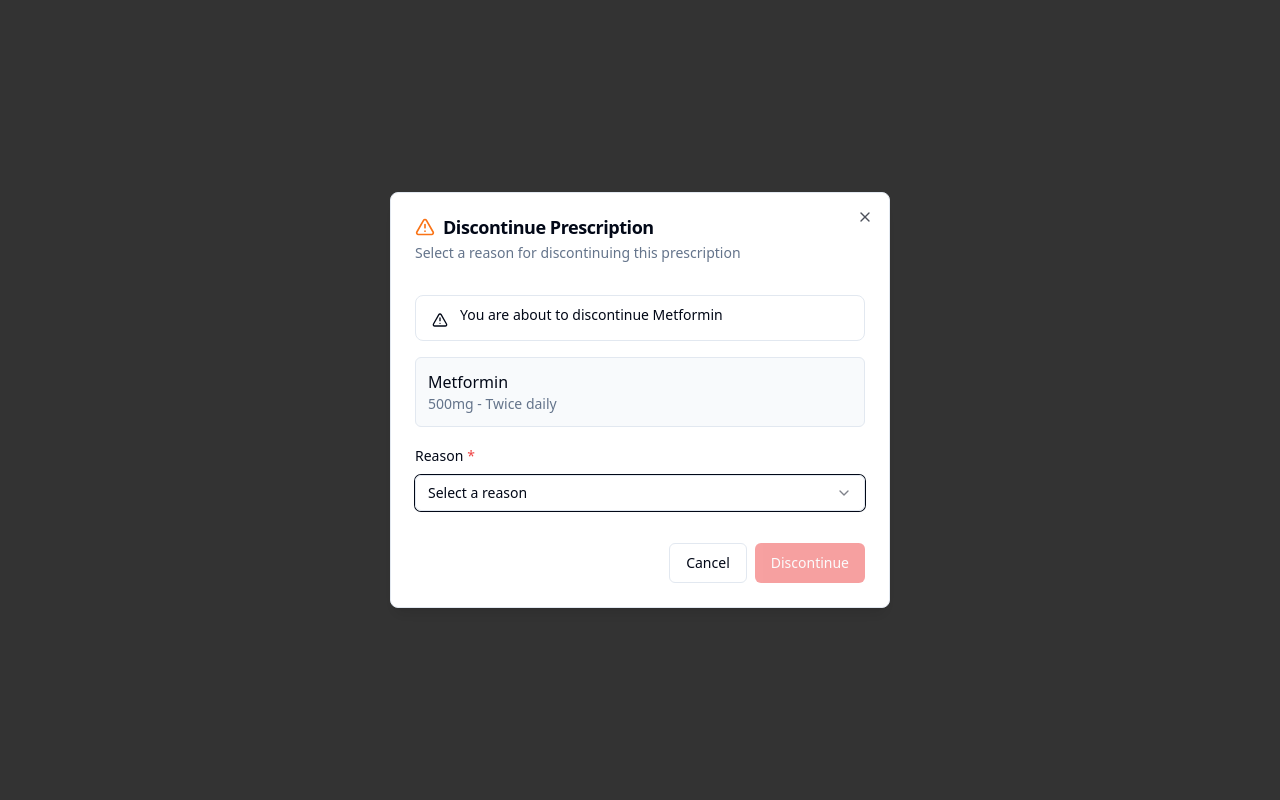
Scenario: DiscontinueDialog › Reason Selection › shows custom reason input when "Other" is selected
The width and height of the screenshot is (1280, 800).
Step 1. Click the dropdown → (478, 492), box [415,475,865,511]
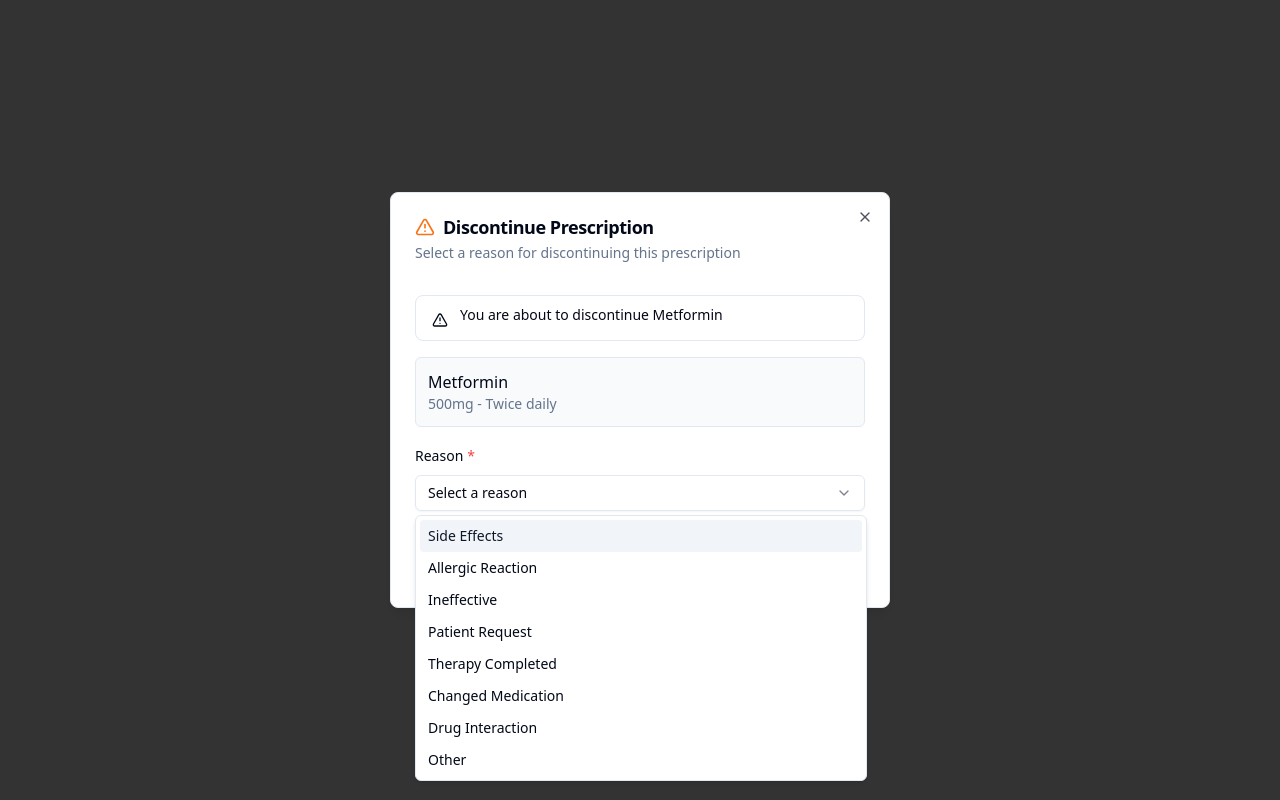
Step 2. Click the option "Other" → (447, 760), box [428,750,466,769]
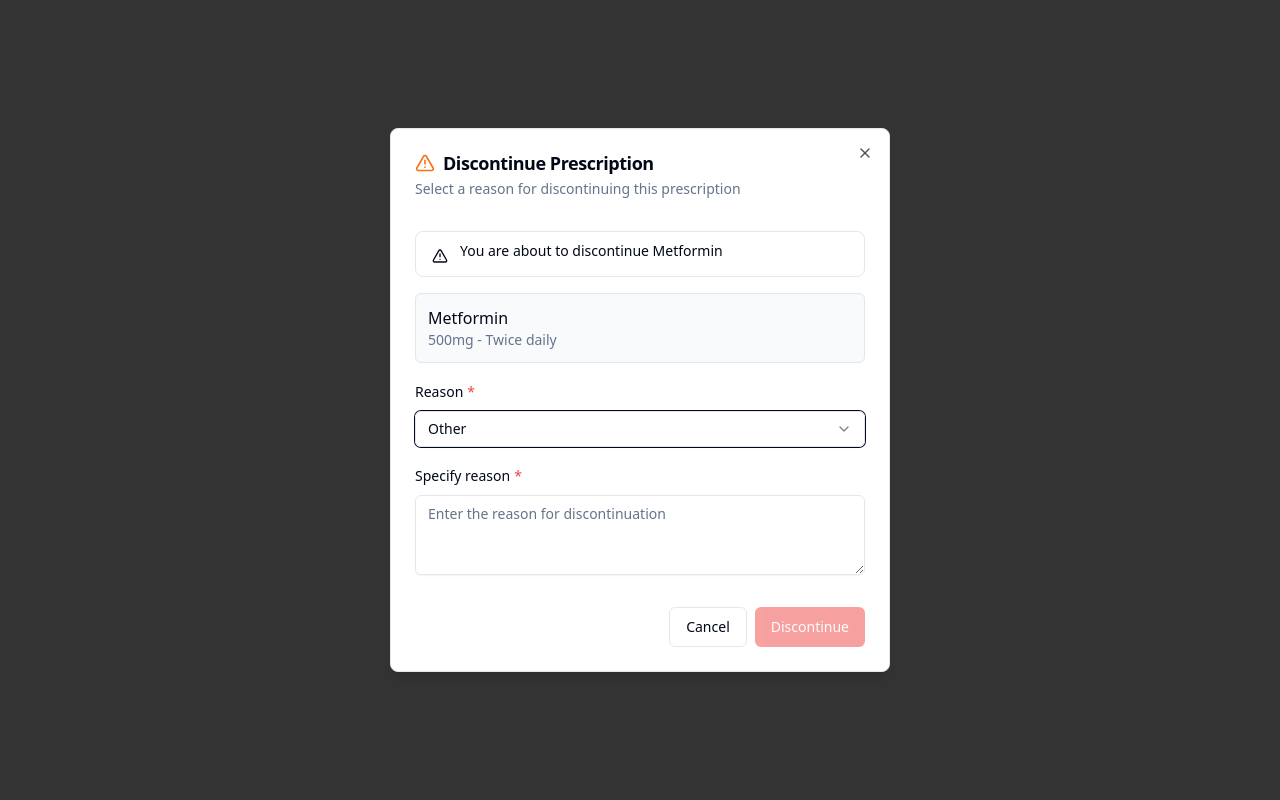
Now the text "Specify reason" is shown, box [415,466,510,485]
Now the text box with placeholder "Enter the reason for discontinuation" is shown, box [415,495,865,575]
